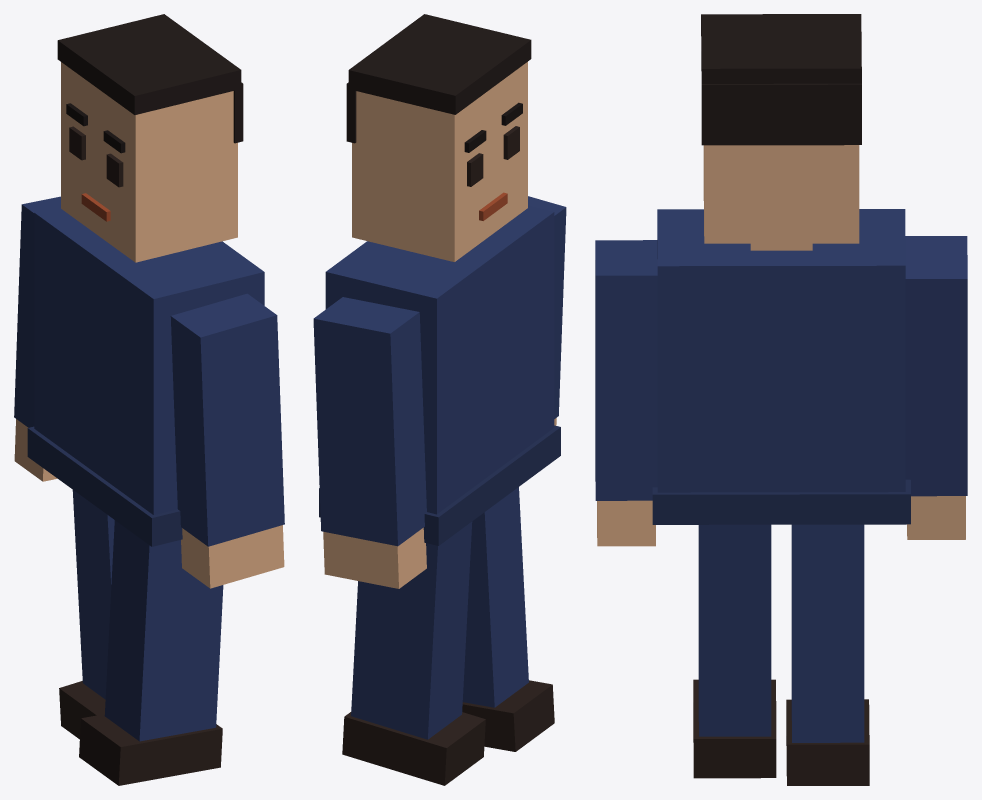
Rendered from walker_7.glb.
3 renders of one model, left to right at view 1: azimuth 30°, elevation 25°; view 2: azimuth 150°, elevation 25°; view 3: azimuth 270°, elevation 25°, orthographic. The views are drawn at different scales.
Visible parts, largest first — view 1: Box9, Box3, Box12, Box1, Box18, Box2, Box5, Box10, Box4, Box7, Box6, Box8 (+2 smaller); view 2: Box9, Box7, Box12, Box5, Box18, Box1, Box6, Box10, Box8, Box2, Box3, Box19 (+2 smaller); view 3: Box9, Box3, Box7, Box5, Box1, Box12, Box18, Box19, Box10, Box2, Box6, Box4 (+1 smaller).
Boxes of the visible parts, left/top/right/bottom form: Box9: left=34, top=206, right=264, bottom=514; Box3: left=170, top=293, right=284, bottom=546; Box12: left=61, top=62, right=237, bottom=262; Box1: left=104, top=520, right=223, bottom=741; Box18: left=57, top=14, right=241, bottom=114; Box2: left=79, top=714, right=222, bottom=785; Box5: left=72, top=490, right=114, bottom=699; Box10: left=27, top=426, right=182, bottom=546; Box4: left=181, top=525, right=284, bottom=588; Box7: left=14, top=196, right=60, bottom=427; Box6: left=59, top=681, right=105, bottom=739; Box8: left=14, top=419, right=57, bottom=481; Box9: left=325, top=205, right=554, bottom=514; Box7: left=313, top=297, right=426, bottom=546; Box12: left=352, top=62, right=527, bottom=261; Box5: left=351, top=521, right=472, bottom=739; Box18: left=348, top=14, right=531, bottom=114; Box1: left=462, top=487, right=528, bottom=707; Box6: left=342, top=712, right=485, bottom=785; Box10: left=319, top=425, right=560, bottom=545; Box8: left=323, top=527, right=426, bottom=588; Box2: left=462, top=680, right=554, bottom=751; Box3: left=528, top=196, right=566, bottom=418; Box19: left=346, top=82, right=356, bottom=143; Box9: left=657, top=209, right=905, bottom=492; Box3: left=595, top=240, right=657, bottom=500; Box7: left=905, top=236, right=967, bottom=496; Box5: left=791, top=524, right=864, bottom=742; Box1: left=698, top=524, right=771, bottom=736; Box12: left=703, top=145, right=859, bottom=243; Box18: left=701, top=14, right=861, bottom=83; Box19: left=701, top=83, right=861, bottom=145; Box10: left=652, top=479, right=910, bottom=524; Box2: left=693, top=679, right=776, bottom=778; Box6: left=786, top=699, right=869, bottom=785; Box4: left=597, top=500, right=655, bottom=546.
Bounding box in the file's own units: 0.354 × 1.75 × 0.8173.
